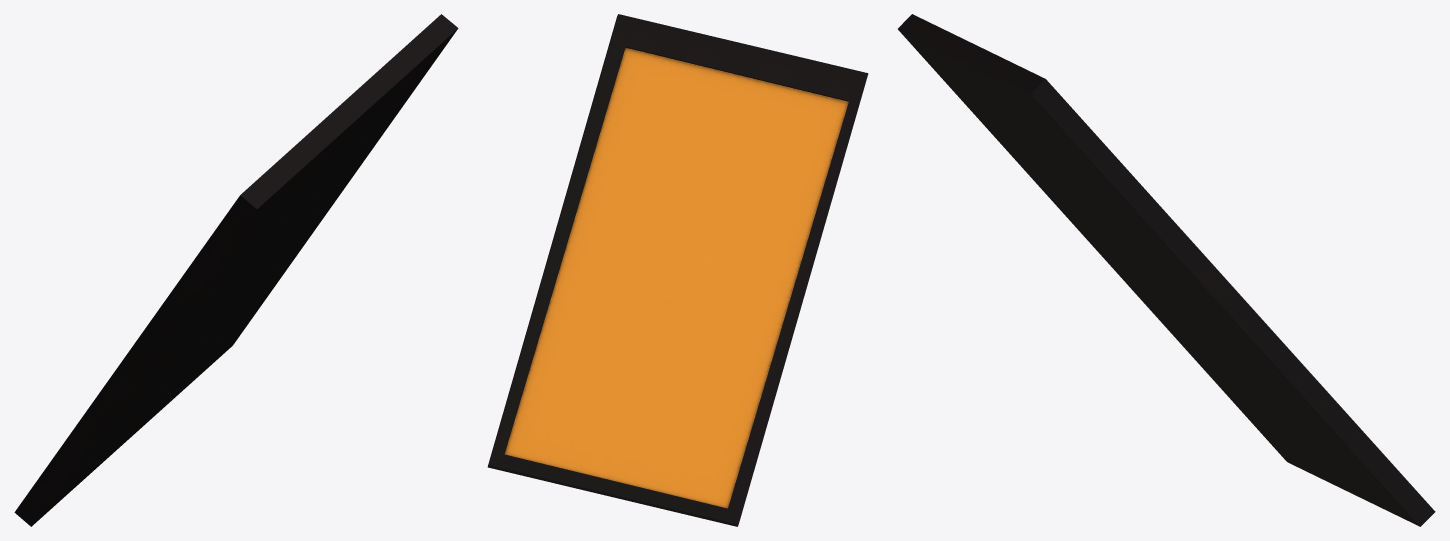
The model's file is Tablet.FBX.
3 renders of one model, left to right at view 1: azimuth 30°, elevation 25°; view 2: azimuth 150°, elevation 25°; view 3: azimuth 270°, elevation 25°, orthographic. The views are drawn at different scales.
Parts seen in each view (by area): view 1: tablet; view 2: tablet; view 3: tablet.
Part boxes in pixels (<box>): tablet: <box>14,14,458,526</box>; tablet: <box>487,14,868,526</box>; tablet: <box>898,14,1435,526</box>.
Size of the model in its own units: 4.89 by 8.21 by 7.72.
